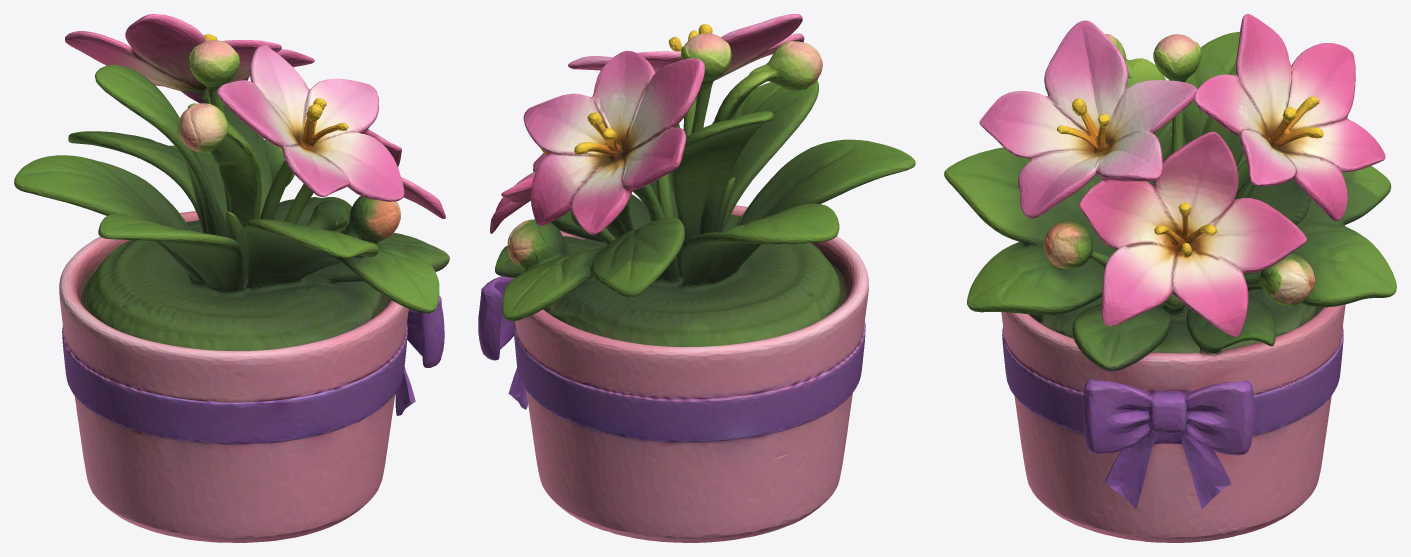
Rendered from flower_2.glb.
3 views of the same model, side by side, from view 1: azimuth 30°, elevation 25°; view 2: azimuth 150°, elevation 25°; view 3: azimuth 270°, elevation 25° (orthographic). The views are drawn at different scales.
Parts seen in each view (by area): view 1: tripo_node_2e2708b9-a657-407f-9722-71c15e1f9401; view 2: tripo_node_2e2708b9-a657-407f-9722-71c15e1f9401; view 3: tripo_node_2e2708b9-a657-407f-9722-71c15e1f9401.
Part boxes in pixels (x1=…): tripo_node_2e2708b9-a657-407f-9722-71c15e1f9401: x1=14, y1=14, x2=449, y2=542; tripo_node_2e2708b9-a657-407f-9722-71c15e1f9401: x1=478, y1=14, x2=915, y2=542; tripo_node_2e2708b9-a657-407f-9722-71c15e1f9401: x1=944, y1=14, x2=1396, y2=542.
Bounding box in the file's own units: 0.8318 × 0.9996 × 0.9121.
Materials: 1 (1 with a texture image).
